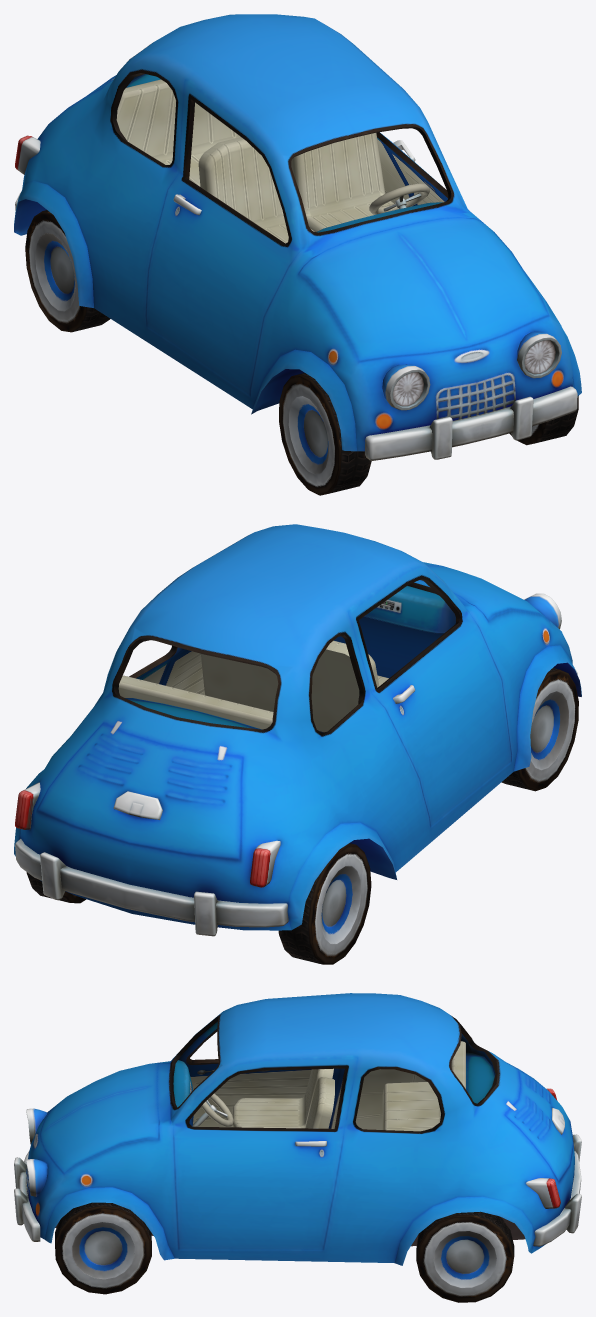
The model's file is CarOld03.FBX.
3 renders of one model, top to bottom at view 1: azimuth 30°, elevation 25°; view 2: azimuth 150°, elevation 25°; view 3: azimuth 270°, elevation 25°, orthographic. The views are drawn at different scales.
Visible parts, largest first — view 1: CarOld03; view 2: CarOld03; view 3: CarOld03.
Part boxes in pixels (bbox=[...]): CarOld03: bbox=[14, 14, 581, 495]; CarOld03: bbox=[14, 524, 581, 964]; CarOld03: bbox=[14, 993, 581, 1302].
Size of the model in its own units: 2.12 by 1.91 by 4.18.
